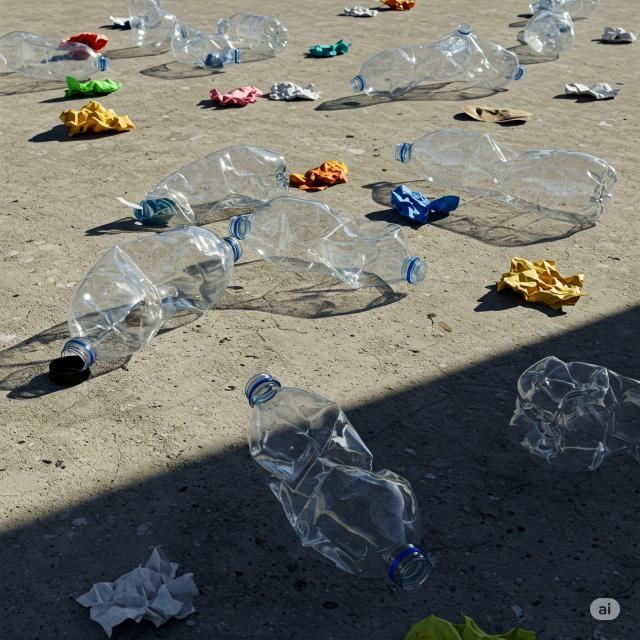paper: (64, 550, 205, 632), (494, 254, 586, 310), (60, 104, 132, 136), (564, 76, 618, 106)
plastic: (48, 228, 245, 373), (244, 373, 409, 546), (392, 125, 616, 234), (253, 199, 429, 288), (136, 146, 314, 221), (353, 36, 525, 94)
